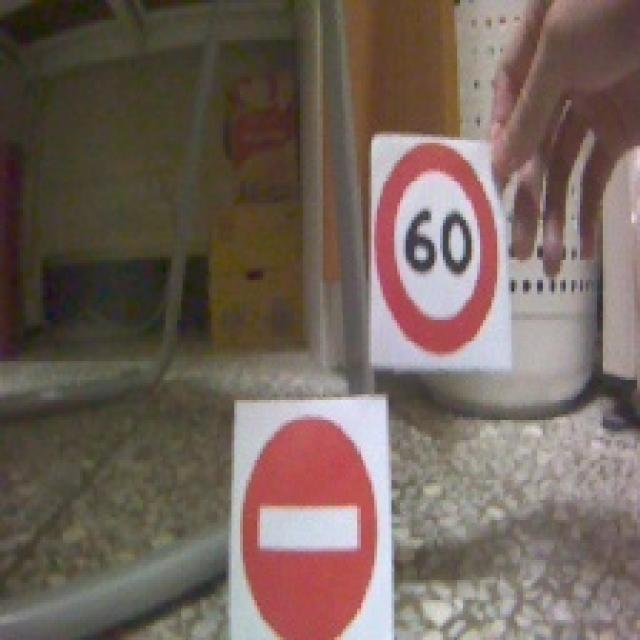DoNotEnterSign: (242, 413, 379, 640)
